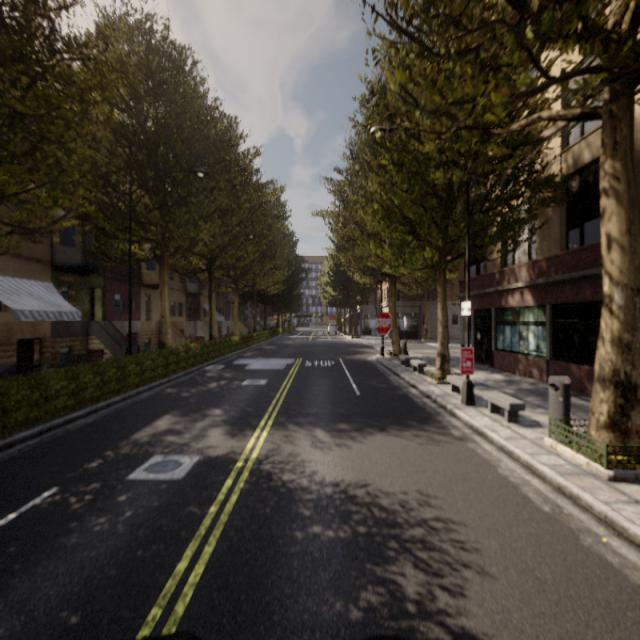stop sign: (373, 309, 392, 336)
